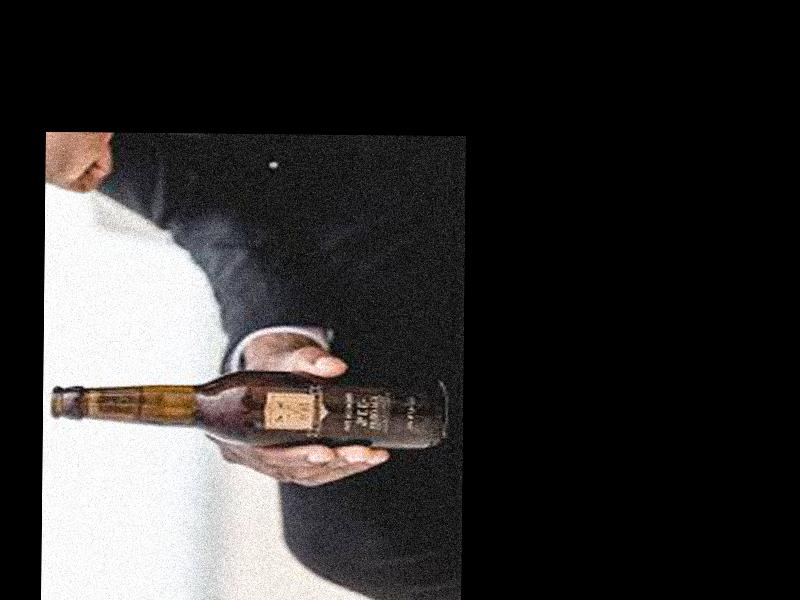Beer: (50, 371, 448, 449)
